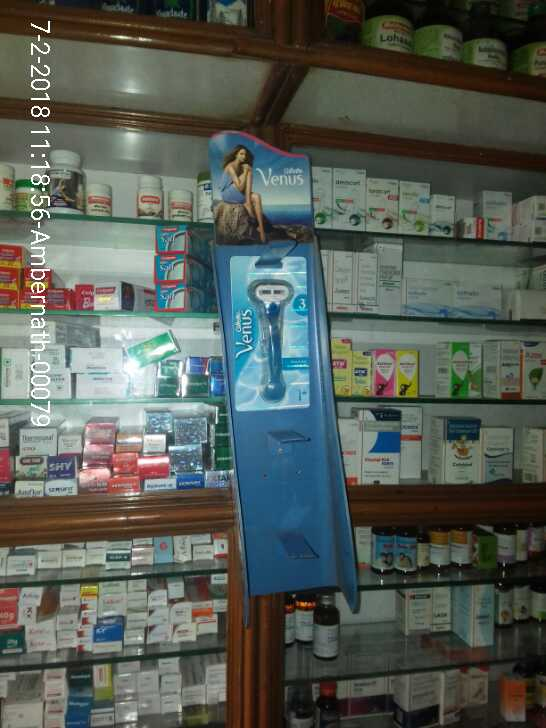venus: (224, 250, 317, 415)
